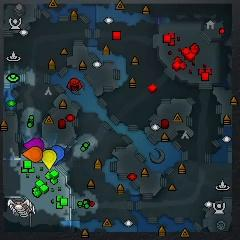p1: (51, 145, 65, 165)
p3: (24, 138, 45, 150)
p4: (41, 149, 57, 169)
p5: (23, 146, 42, 162)
